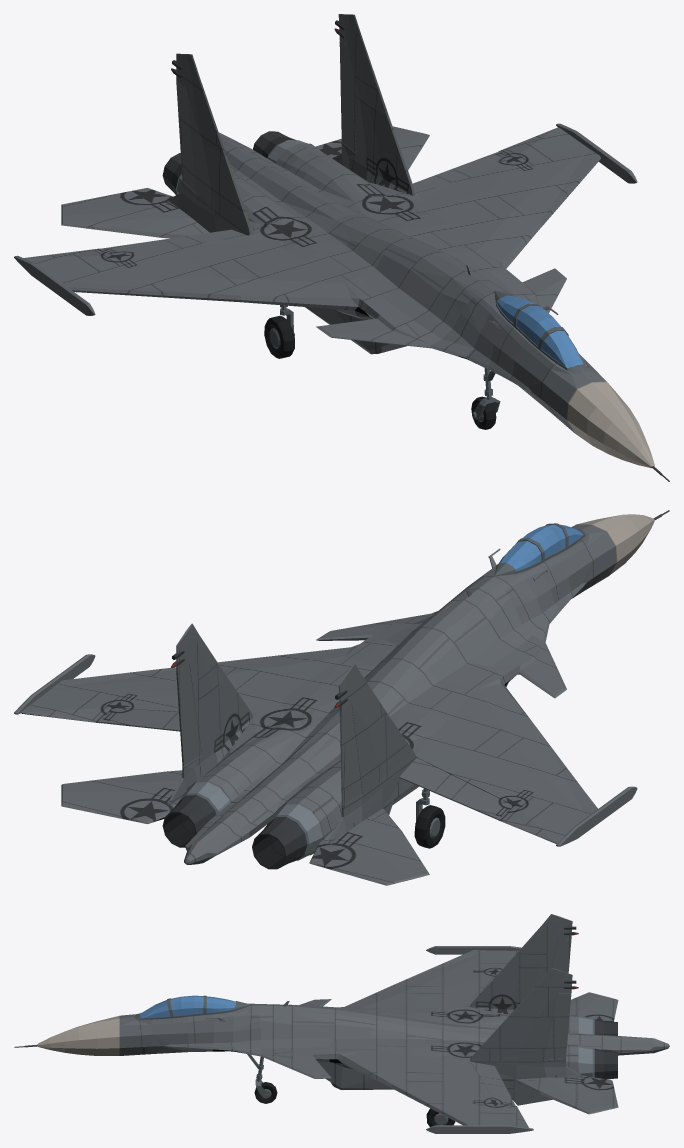
File: SM_Veh_Jet_02.fbx
3 renders of one model, top to bottom at view 1: azimuth 30°, elevation 25°; view 2: azimuth 150°, elevation 25°; view 3: azimuth 270°, elevation 25°, orthographic. The views are drawn at different scales.
Visible parts, largest first — view 1: SM_Veh_Jet_02, SM_Veh_Jet_02_Glass, SM_Veh_Jet_Flap_Wing_R, SM_Veh_Jet_02_Flap_Tail_L, SM_Veh_Jet_02_Flap_Wing_L, SM_Veh_Jet_02_Flap_Tail_R, SM_Veh_Jet_02_Wheel_L; view 2: SM_Veh_Jet_02, SM_Veh_Jet_Flap_Wing_R, SM_Veh_Jet_02_Glass, SM_Veh_Jet_02_Flap_Tail_L, SM_Veh_Jet_02_Flap_Tail_R, SM_Veh_Jet_02_Flap_Wing_L, SM_Veh_Jet_02_Wheel_L; view 3: SM_Veh_Jet_02, SM_Veh_Jet_02_Glass, SM_Veh_Jet_02_Flap_Tail_L, SM_Veh_Jet_02_Flap_Wing_L, SM_Veh_Jet_02_Flap_Tail_R, SM_Veh_Jet_02_Wheel_R.
Boxes of the visible parts, x1=… form: SM_Veh_Jet_02: x1=14, y1=14, x2=669, y2=481; SM_Veh_Jet_02_Glass: x1=497, y1=295, x2=583, y2=367; SM_Veh_Jet_Flap_Wing_R: x1=101, y1=229, x2=247, y2=255; SM_Veh_Jet_02_Flap_Tail_L: x1=339, y1=41, x2=356, y2=153; SM_Veh_Jet_02_Flap_Wing_L: x1=413, y1=151, x2=513, y2=194; SM_Veh_Jet_02_Flap_Tail_R: x1=176, y1=81, x2=195, y2=192; SM_Veh_Jet_02_Wheel_L: x1=264, y1=315, x2=294, y2=358; SM_Veh_Jet_02: x1=14, y1=510, x2=669, y2=885; SM_Veh_Jet_Flap_Wing_R: x1=399, y1=758, x2=513, y2=819; SM_Veh_Jet_02_Glass: x1=498, y1=524, x2=583, y2=570; SM_Veh_Jet_02_Flap_Tail_L: x1=176, y1=664, x2=201, y2=765; SM_Veh_Jet_02_Flap_Tail_R: x1=339, y1=704, x2=362, y2=804; SM_Veh_Jet_02_Flap_Wing_L: x1=100, y1=708, x2=180, y2=731; SM_Veh_Jet_02_Wheel_L: x1=414, y1=805, x2=445, y2=848; SM_Veh_Jet_02: x1=14, y1=914, x2=669, y2=1133; SM_Veh_Jet_02_Glass: x1=139, y1=995, x2=235, y2=1018; SM_Veh_Jet_02_Flap_Tail_L: x1=543, y1=993, x2=571, y2=1059; SM_Veh_Jet_02_Flap_Wing_L: x1=471, y1=1062, x2=515, y2=1105; SM_Veh_Jet_02_Flap_Tail_R: x1=551, y1=939, x2=571, y2=973; SM_Veh_Jet_02_Wheel_R: x1=426, y1=1108, x2=455, y2=1126.
Size of the model in its own units: 1487 by 635 by 2283.
